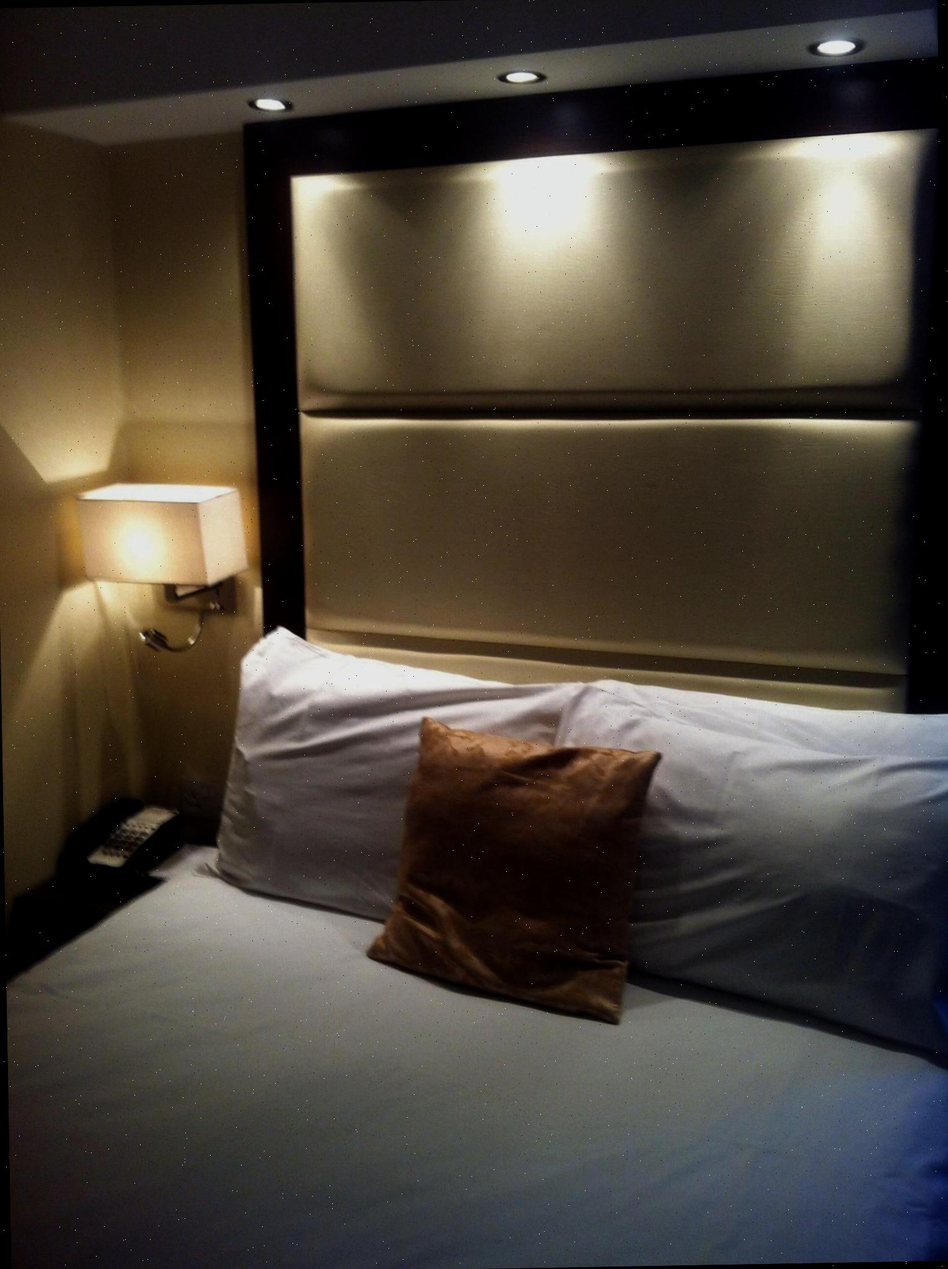clean_bed: (6, 721, 941, 1269)
organised_pillow: (216, 620, 948, 1015)
